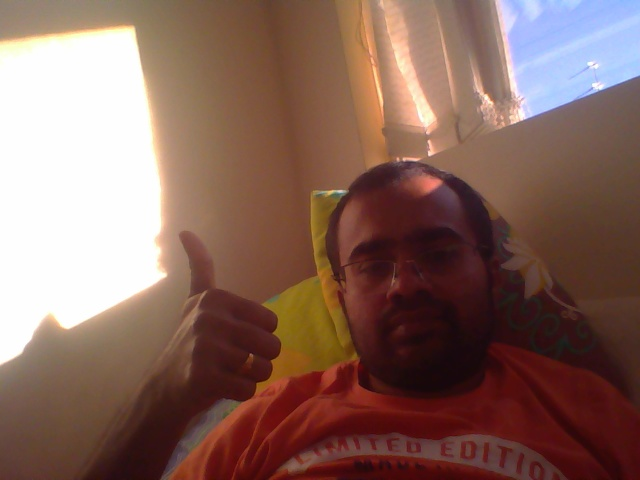ThumbsUp: (167, 229, 285, 421)
